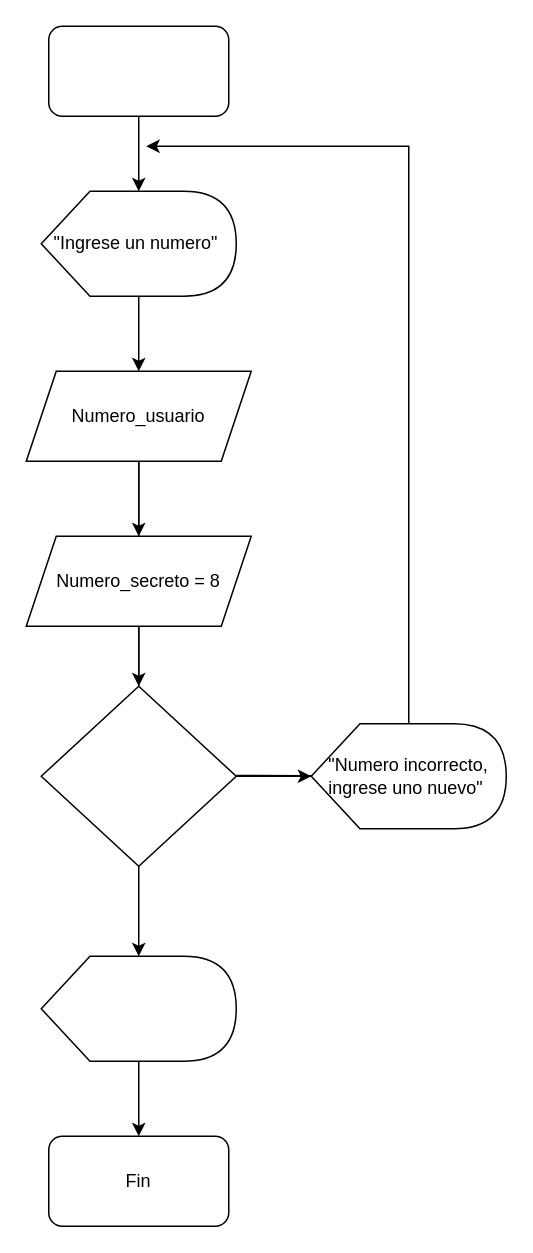
The diagram is 533 pixels wide and 1253 high, and some of its shapes have lost their labels. Each missing label, with the centre of its shape:
"Adivinaste!!!!": [138,1008]
Inicio: [138,70]
Numero_usuario != Numero_secreto: [138,775]
